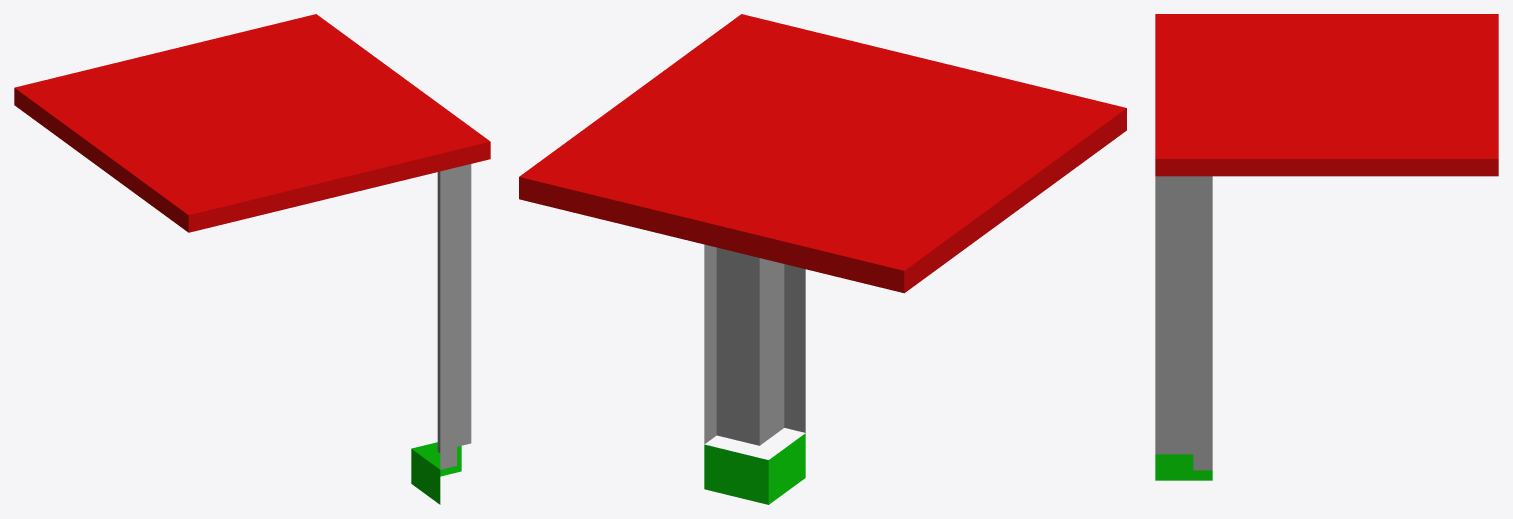
The model's file is SM_Cabinet_Base_Corner.fbx.
3 views of the same model, side by side, from view 1: azimuth 30°, elevation 25°; view 2: azimuth 150°, elevation 25°; view 3: azimuth 270°, elevation 25° (orthographic). The views are drawn at different scales.
Parts seen in each view (by area): view 1: SM_Cabinet_Base_Corner; view 2: SM_Cabinet_Base_Corner; view 3: SM_Cabinet_Base_Corner.
Part boxes in pixels (box(x1,y1,x2,y2)): SM_Cabinet_Base_Corner: box(14, 14, 490, 504); SM_Cabinet_Base_Corner: box(519, 14, 1126, 504); SM_Cabinet_Base_Corner: box(1155, 14, 1498, 480).
Bounding box in the file's own units: 90 × 100 × 90.
